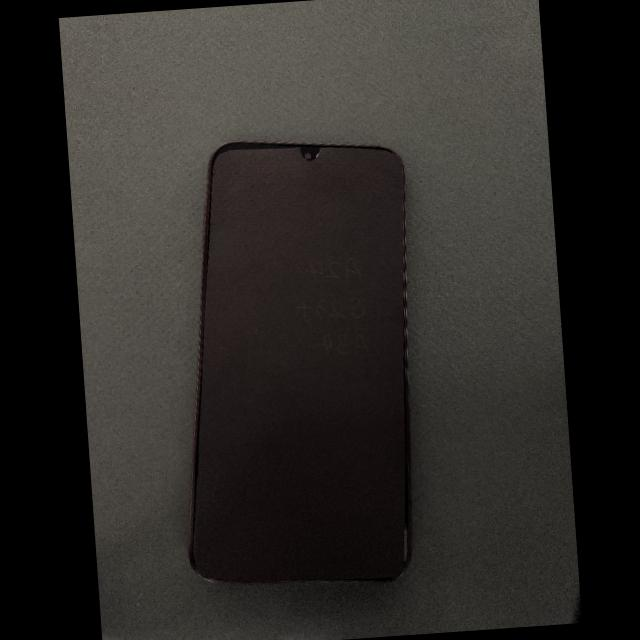lens: (305, 152, 312, 159)
phone: (189, 141, 412, 582)
